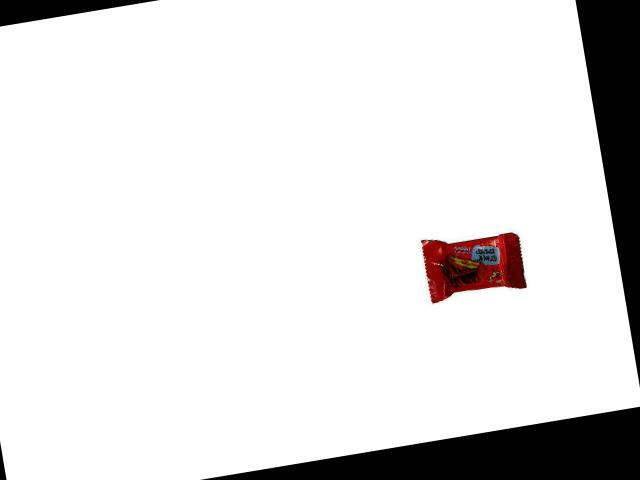chocolate: (418, 216, 535, 302)
